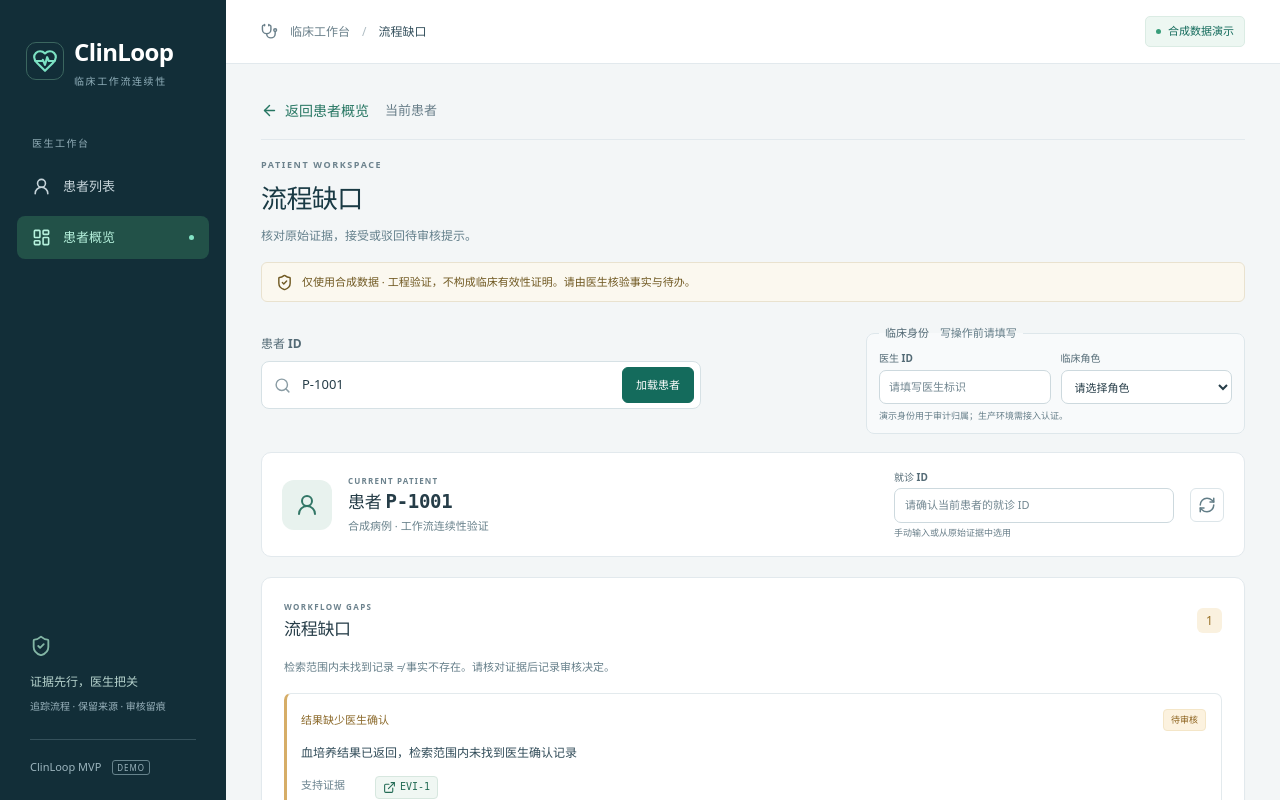
Test: evidence drawer › resolves an event ID source pointer while preserving the raw payload reference
Click the button with aria-label "查看证据 EVI-1".
click(407, 788)  # box [375,776,438,799]
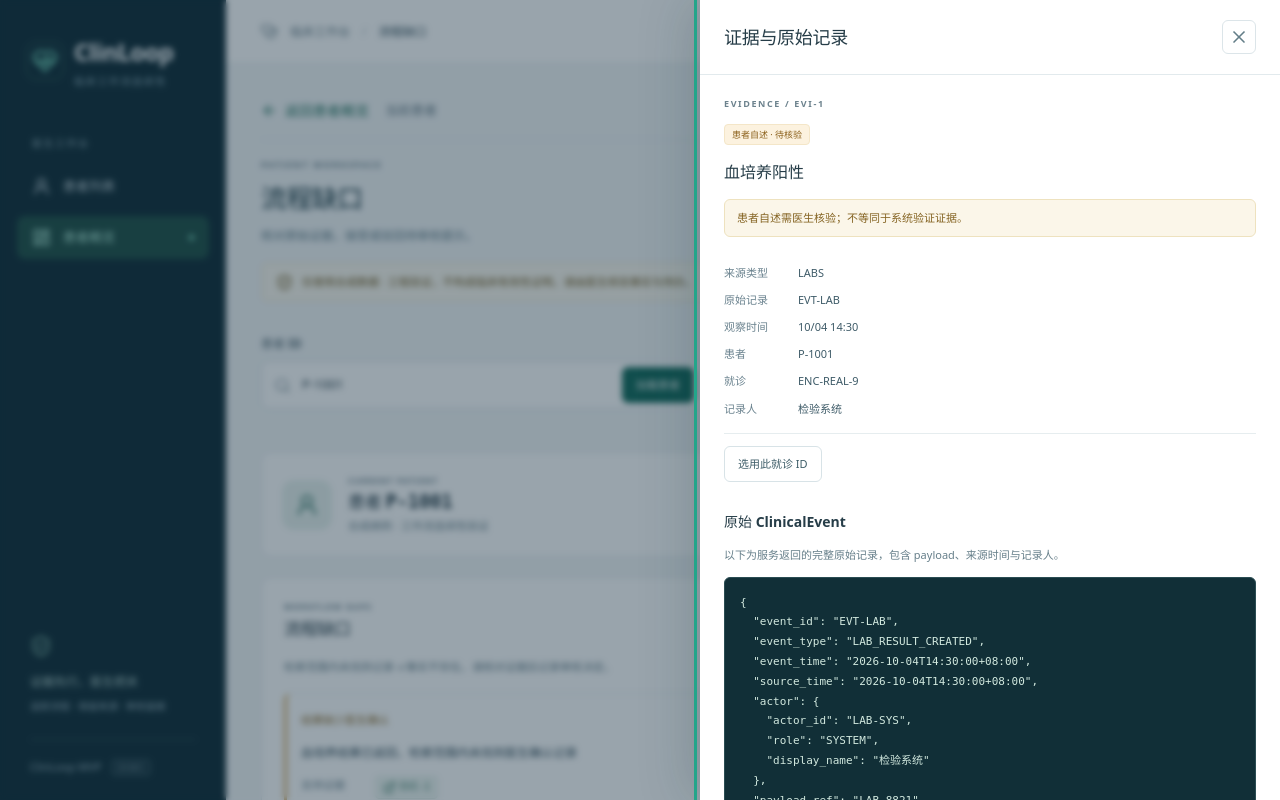
Expected: the text "ENC-REAL-9" is shown, [798,373,859,388]
